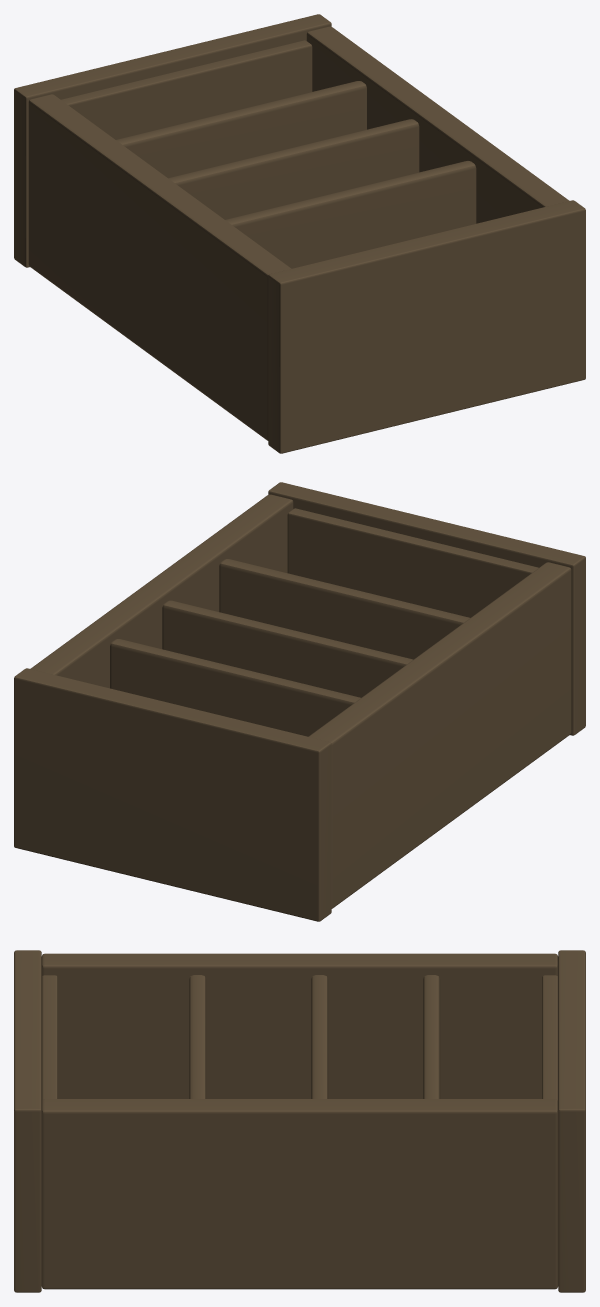
The model's file is prp_bookshelf_02_upsidedown.fbx.
The picture shows the model from 3 angles, top to bottom: view 1: azimuth 30°, elevation 25°; view 2: azimuth 150°, elevation 25°; view 3: azimuth 270°, elevation 25°; orthographic projection. The views are drawn at different scales.
Parts seen in each view (by area): view 1: PRP_BookShelf_02_Base, PRP_BookShelf_02_Side_01, PRP_BookShelf_02_Top, PRP_BookShelf_02_Shelf_03, PRP_BookShelf_02_Side_02, PRP_BookShelf_02_Shelf_02, PRP_BookShelf_02_Shelf_01; view 2: PRP_BookShelf_02_Top, PRP_BookShelf_02_Side_01, PRP_BookShelf_02_Base, PRP_BookShelf_02_Side_02, PRP_BookShelf_02_Shelf_03, PRP_BookShelf_02_Shelf_01, PRP_BookShelf_02_Shelf_02; view 3: PRP_BookShelf_02_Side_02, PRP_BookShelf_02_Side_01, PRP_BookShelf_02_Top, PRP_BookShelf_02_Base, PRP_BookShelf_02_Shelf_01, PRP_BookShelf_02_Shelf_02, PRP_BookShelf_02_Shelf_03.
Part boxes in pixels (x1=…): PRP_BookShelf_02_Base: x1=268, y1=200, x2=585, y2=453; PRP_BookShelf_02_Side_01: x1=28, y1=94, x2=291, y2=440; PRP_BookShelf_02_Top: x1=14, y1=14, x2=331, y2=267; PRP_BookShelf_02_Shelf_03: x1=225, y1=161, x2=476, y2=268; PRP_BookShelf_02_Side_02: x1=306, y1=26, x2=569, y2=223; PRP_BookShelf_02_Shelf_02: x1=168, y1=119, x2=419, y2=219; PRP_BookShelf_02_Shelf_01: x1=116, y1=81, x2=366, y2=177; PRP_BookShelf_02_Top: x1=14, y1=668, x2=331, y2=921; PRP_BookShelf_02_Side_01: x1=308, y1=562, x2=571, y2=908; PRP_BookShelf_02_Base: x1=268, y1=482, x2=585, y2=735; PRP_BookShelf_02_Side_02: x1=30, y1=494, x2=293, y2=688; PRP_BookShelf_02_Shelf_03: x1=219, y1=559, x2=469, y2=659; PRP_BookShelf_02_Shelf_01: x1=110, y1=639, x2=360, y2=736; PRP_BookShelf_02_Shelf_02: x1=162, y1=600, x2=413, y2=697; PRP_BookShelf_02_Side_02: x1=41, y1=1099, x2=558, y2=1289; PRP_BookShelf_02_Side_01: x1=41, y1=953, x2=558, y2=1098; PRP_BookShelf_02_Top: x1=542, y1=950, x2=585, y2=1292; PRP_BookShelf_02_Base: x1=14, y1=950, x2=57, y2=1292; PRP_BookShelf_02_Shelf_01: x1=423, y1=975, x2=440, y2=1098; PRP_BookShelf_02_Shelf_02: x1=311, y1=975, x2=328, y2=1098; PRP_BookShelf_02_Shelf_03: x1=189, y1=975, x2=206, y2=1098.
Bounding box in the file's own units: 206 × 111 × 312.
